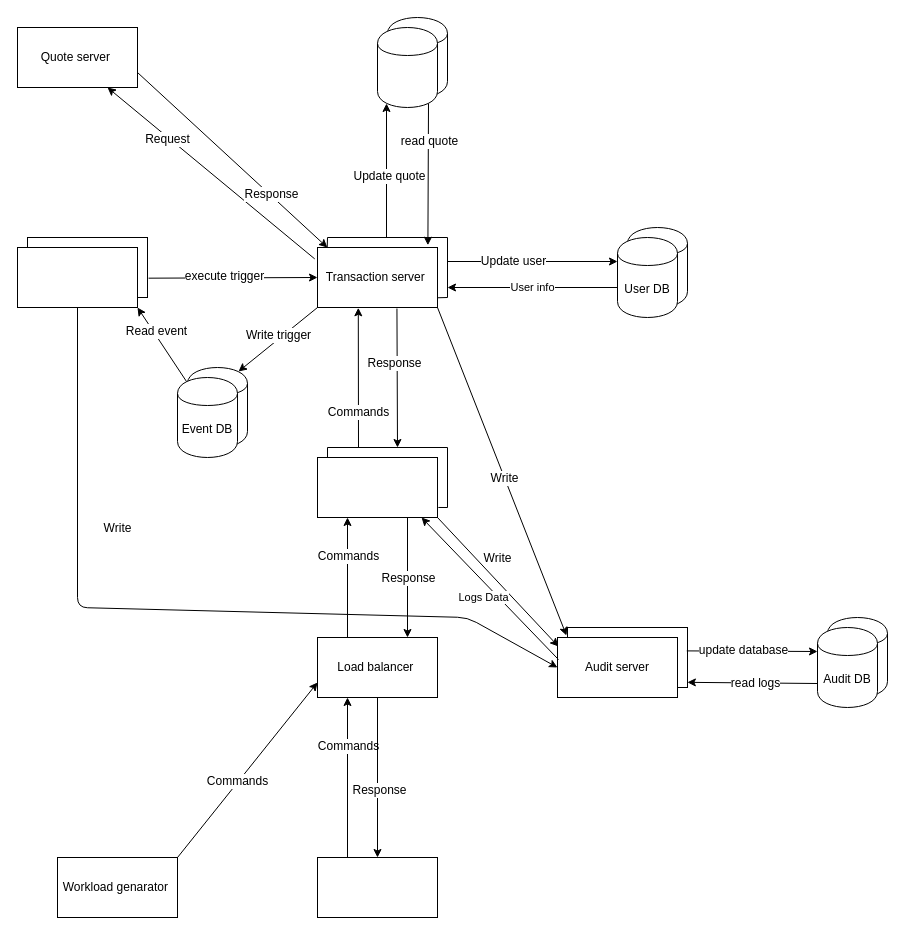
The diagram is 905 pixels wide and 935 high, and some of its shapes have lost their labels. Here are the shapes that lost their labels. From the top down, the centre of each, then its label:
[407,67]: Quote DB
[77,277]: Trigger server
[377,487]: Web server
[377,887]: Web Client
